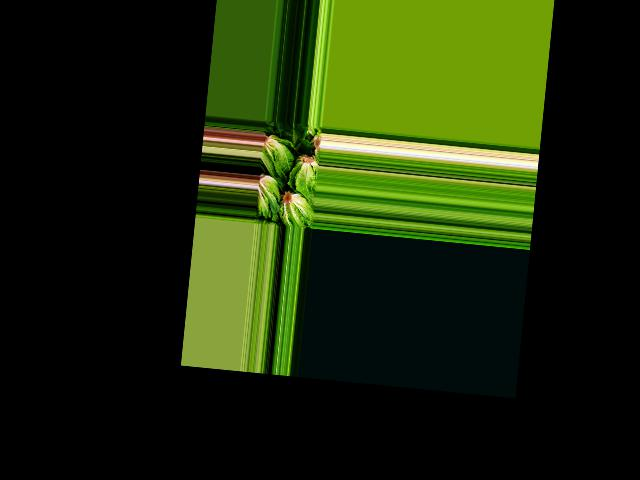lettuce: (282, 121, 308, 148)
